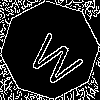W: (25, 25, 91, 90)
